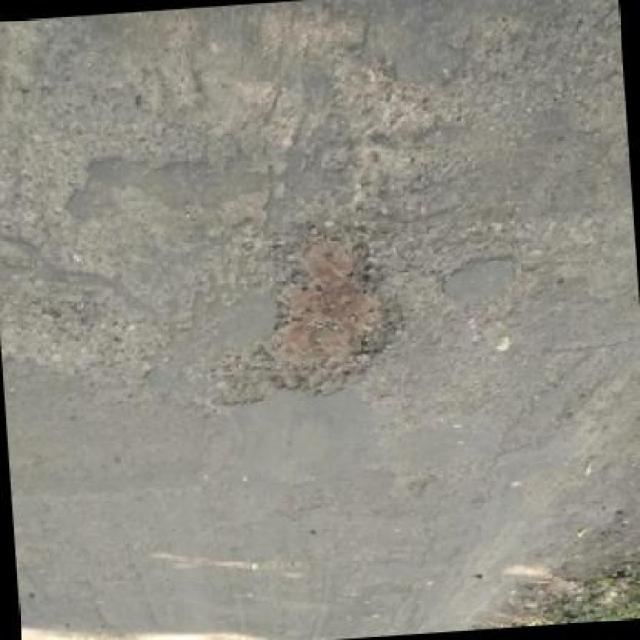pothole: (195, 224, 411, 413)
